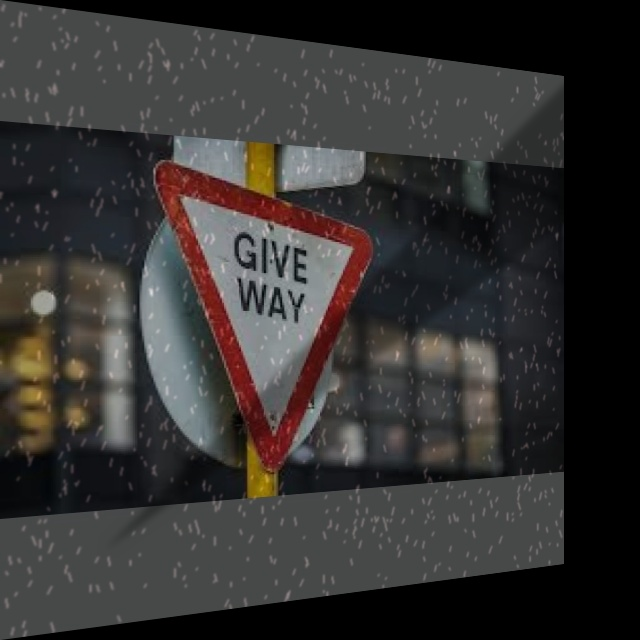Give_Way: (162, 163, 372, 481)
